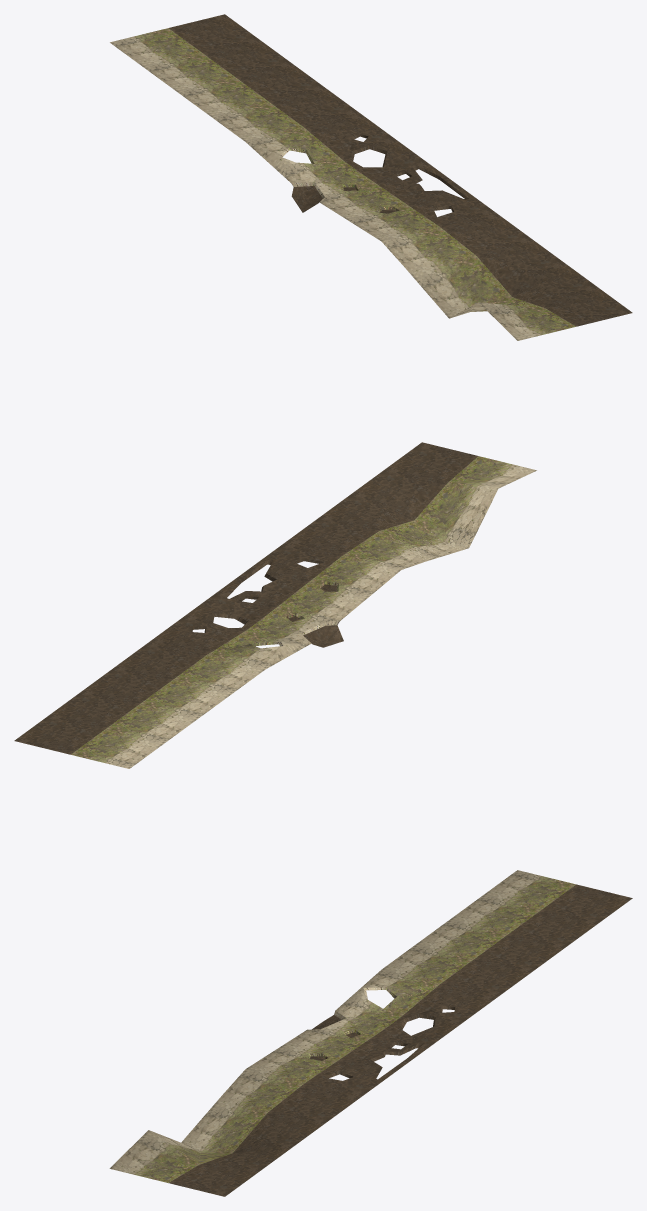
File: bz_sideRoad_01.fbx
The picture shows the model from 3 angles, top to bottom: view 1: azimuth 30°, elevation 25°; view 2: azimuth 150°, elevation 25°; view 3: azimuth 330°, elevation 25°; orthographic projection.
Parts seen in each view (by area): view 1: bz_sideRoad_03, bz_sideRoad_01, bz_sideRoad_02; view 2: bz_sideRoad_03, bz_sideRoad_02, bz_sideRoad_01; view 3: bz_sideRoad_01, bz_sideRoad_03, bz_sideRoad_02.
Part boxes in pixels (bbox=[...]): bz_sideRoad_03: bbox=[381, 213, 632, 340]; bz_sideRoad_01: bbox=[110, 14, 360, 141]; bz_sideRoad_02: bbox=[246, 114, 496, 241]; bz_sideRoad_03: bbox=[286, 442, 536, 569]; bz_sideRoad_02: bbox=[150, 542, 400, 669]; bz_sideRoad_01: bbox=[14, 641, 264, 768]; bz_sideRoad_01: bbox=[382, 870, 632, 997]; bz_sideRoad_03: bbox=[109, 1069, 360, 1196]; bz_sideRoad_02: bbox=[246, 969, 496, 1097].
Size of the model in its own units: 8.95 by 2.42 by 30.
